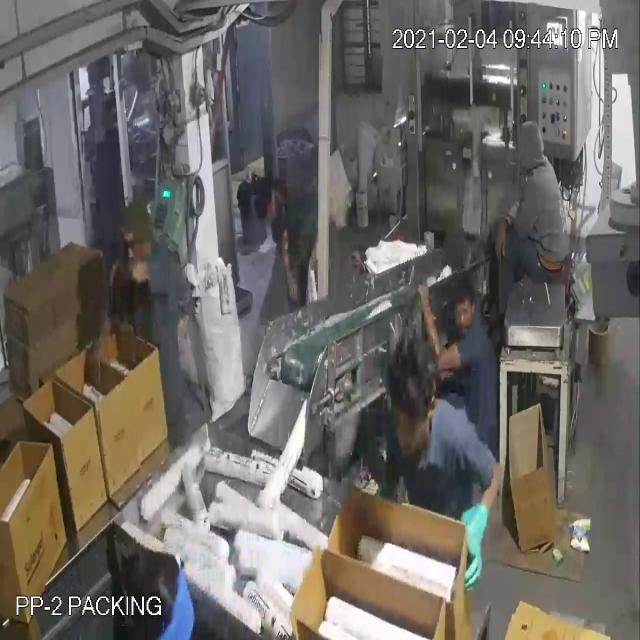Gloves: (22, 46, 504, 542)
